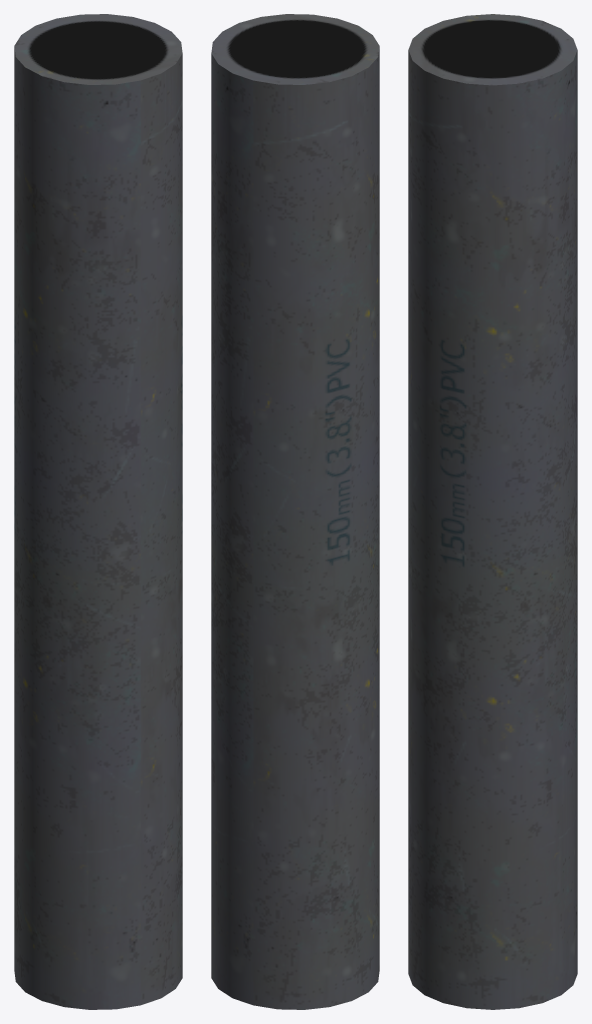
Rendered from PlasticPipe_02a_snaps019.fbx.
3 views of the same model, side by side, from view 1: azimuth 30°, elevation 25°; view 2: azimuth 150°, elevation 25°; view 3: azimuth 270°, elevation 25° (orthographic).
Visible parts, largest first — view 1: PlasticPipe_02a_snaps019_LOD0; view 2: PlasticPipe_02a_snaps019_LOD0; view 3: PlasticPipe_02a_snaps019_LOD0.
Boxes of the visible parts, left/top/right/bottom form: PlasticPipe_02a_snaps019_LOD0: left=14, top=14, right=182, bottom=1009; PlasticPipe_02a_snaps019_LOD0: left=211, top=14, right=379, bottom=1009; PlasticPipe_02a_snaps019_LOD0: left=408, top=14, right=577, bottom=1009.
Size of what is drawn, in the model's own units: 16.57 by 100 by 16.57.
